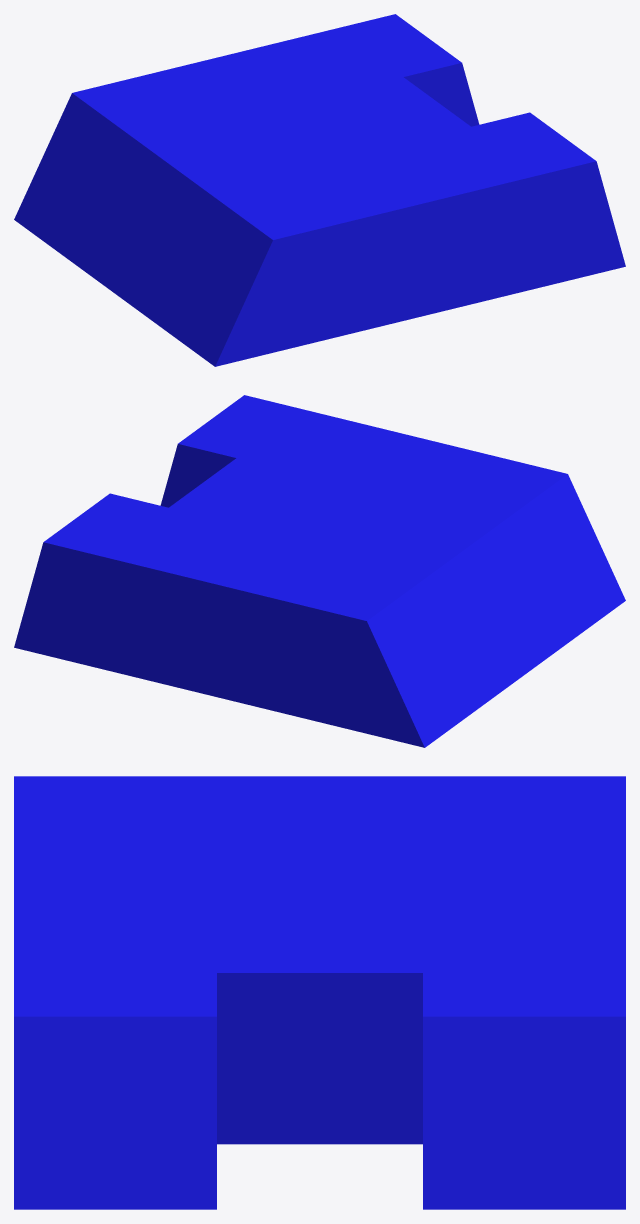
Rendered from auto_top.DAE.
3 views of the same model, one above another, from view 1: azimuth 30°, elevation 25°; view 2: azimuth 150°, elevation 25°; view 3: azimuth 270°, elevation 25° (orthographic). The views are drawn at different scales.
Visible parts, largest first — view 1: auto_top001; view 2: auto_top001; view 3: auto_top001.
Part boxes in pixels (x1,y1,x2,y2): auto_top001: (14, 14, 625, 366); auto_top001: (14, 395, 625, 747); auto_top001: (14, 776, 625, 1209).
Size of the model in its own units: 16.41 by 4.3 by 13.91.
